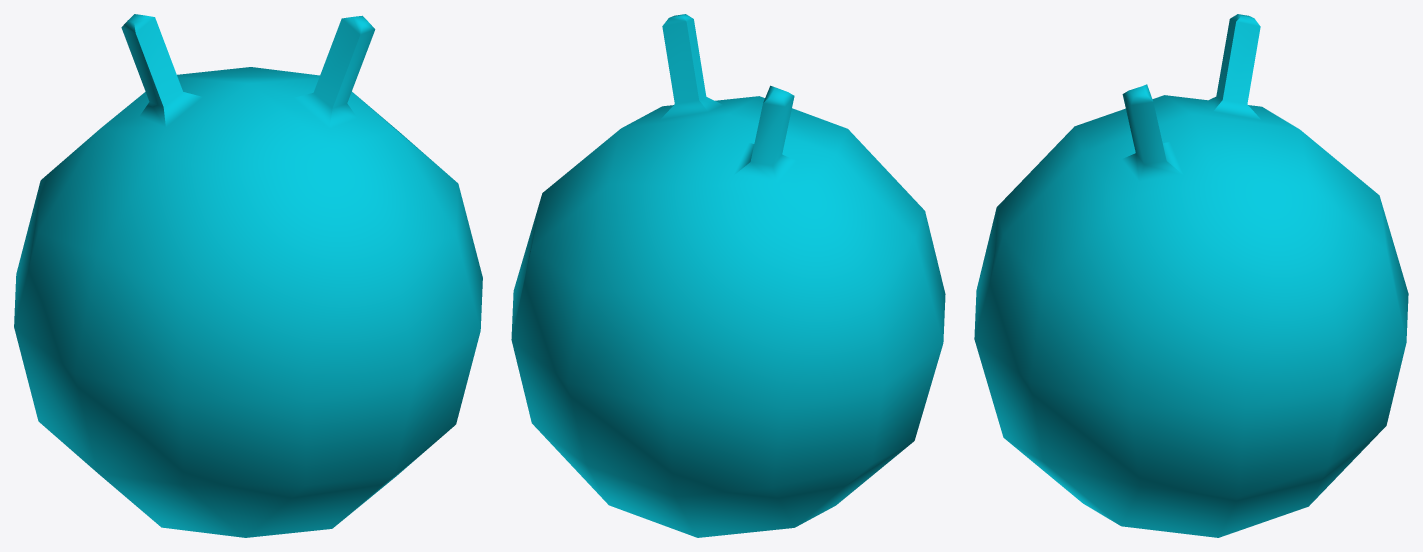
File: entertainment_023.glb
3 views of the same model, side by side, from view 1: azimuth 30°, elevation 25°; view 2: azimuth 150°, elevation 25°; view 3: azimuth 270°, elevation 25° (orthographic). The views are drawn at different scales.
Parts seen in each view (by area): view 1: entertainment_023; view 2: entertainment_023; view 3: entertainment_023.
Part boxes in pixels (left/top/right/bottom): entertainment_023: left=14, top=14, right=482, bottom=537; entertainment_023: left=511, top=14, right=945, bottom=537; entertainment_023: left=974, top=14, right=1408, bottom=537.
Size of the model in its own units: 0.7199 by 0.856 by 0.7199.
1 material, 1 textured.
